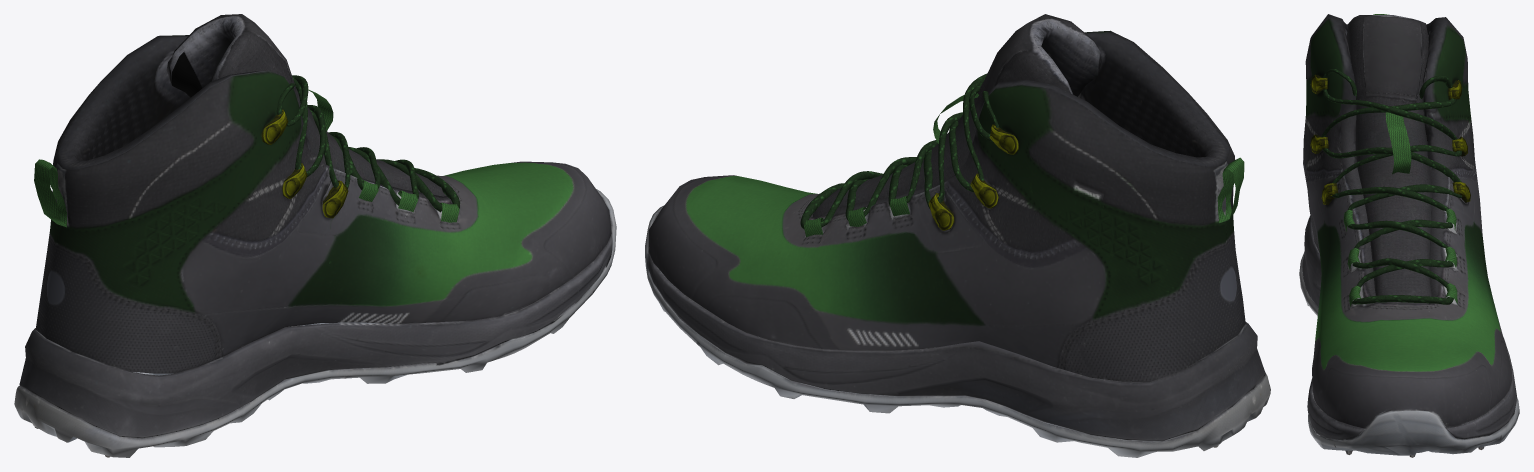
3 renders of one model, left to right at view 1: azimuth 30°, elevation 25°; view 2: azimuth 150°, elevation 25°; view 3: azimuth 270°, elevation 25°, orthographic. The views are drawn at different scales.
Visible parts, largest first — view 1: FaGuiang_Test_Shoe; view 2: FaGuiang_Test_Shoe; view 3: FaGuiang_Test_Shoe.
Part boxes in pixels (x1,y1,x2,y2): FaGuiang_Test_Shoe: [14, 14, 616, 457]; FaGuiang_Test_Shoe: [645, 14, 1270, 457]; FaGuiang_Test_Shoe: [1299, 14, 1519, 455].
Bounding box in the file's own units: 36.64 × 22.58 × 13.42.
1 material, 1 textured.
